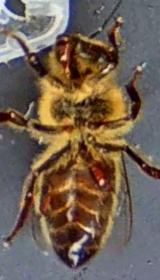varroa_mite: (78, 150, 118, 200)
